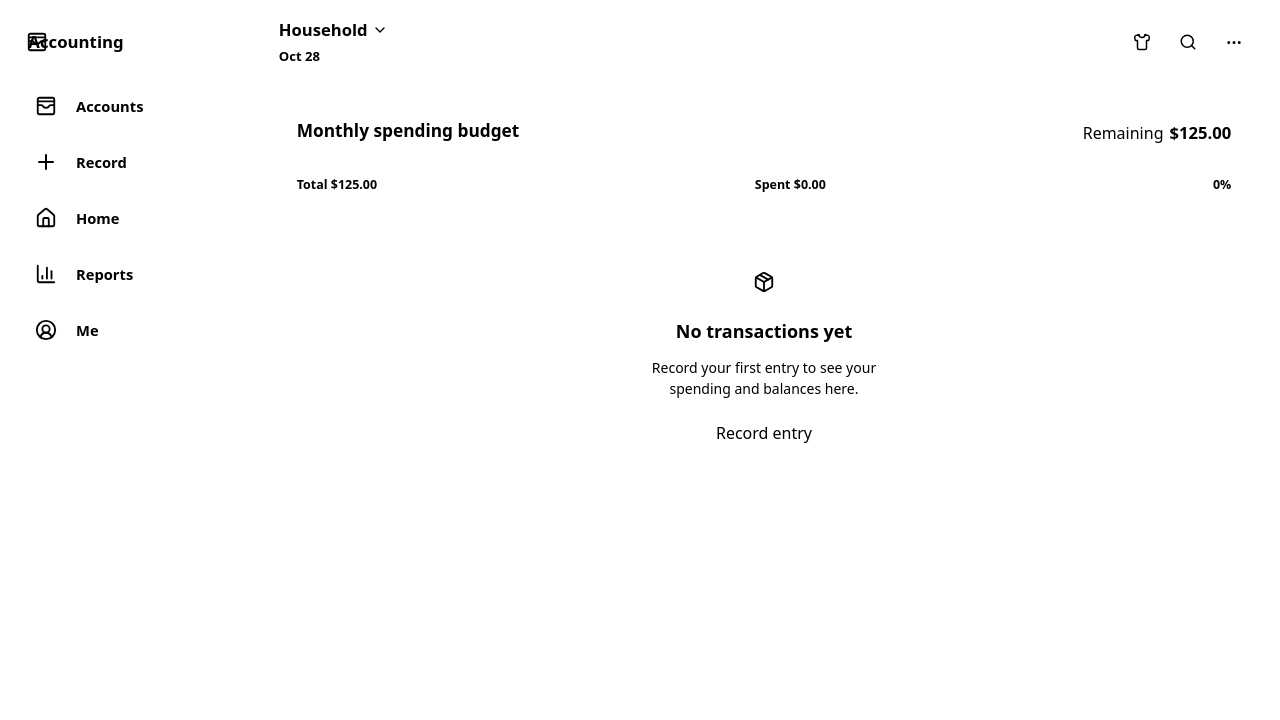
it: App › uses the header book switcher and workspace menu actions
This screenshot has width=1280, height=720.
Check: the element named "Home" is shown, box [279, 103, 1249, 487]
Check: the label named "Switch book" holds "book-1", box [279, 18, 388, 43]
Click the button named "More options".
click(1234, 42)  # box [1219, 27, 1249, 57]
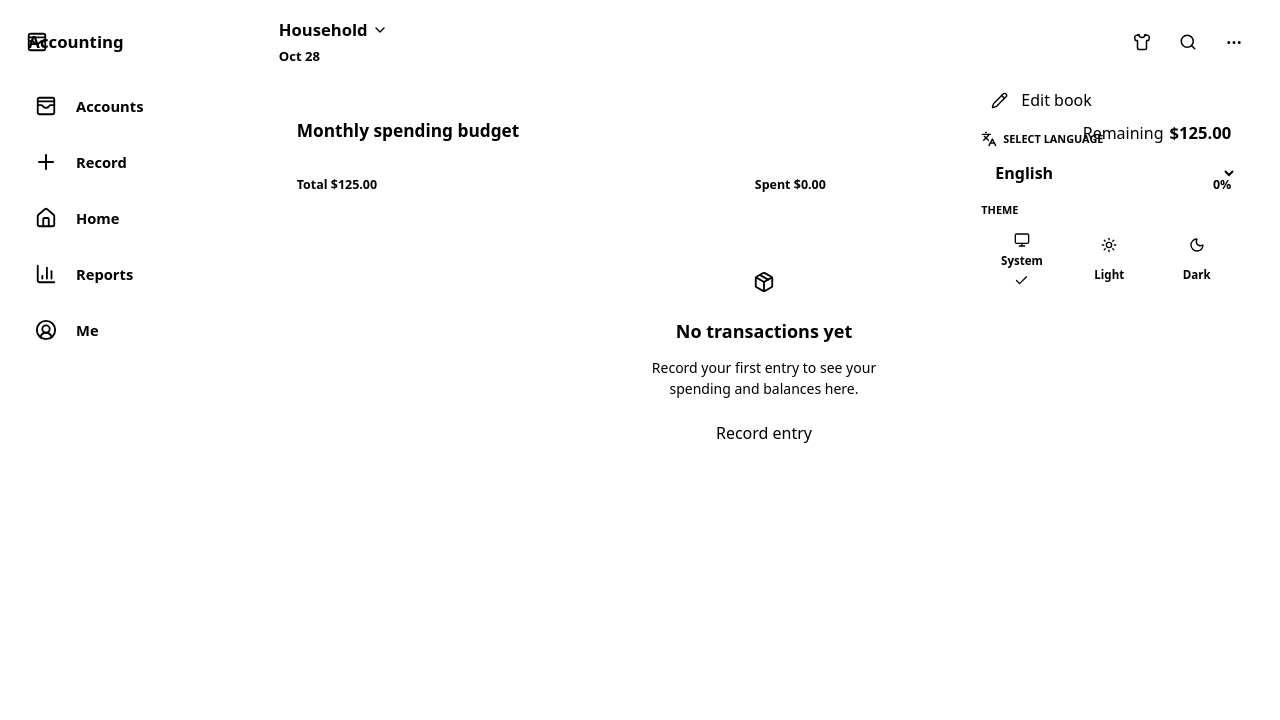
Check: the dropdown labelled "Select language" is shown, box [981, 154, 1237, 192]
Check: the text "Theme" is shown, box [981, 202, 1018, 217]
Click the button "Dark".
click(1197, 260)  # box [1156, 225, 1237, 295]
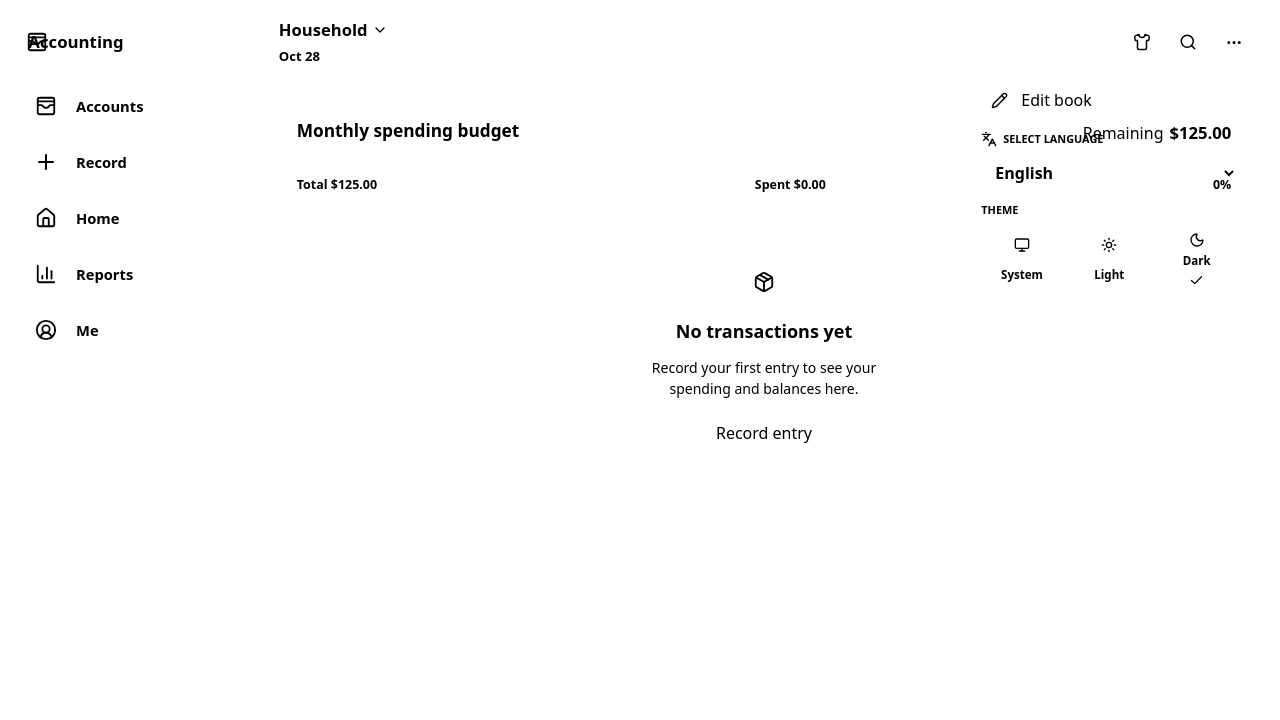
Check: the element that starts with "Household" has class "mobileShellThemeDark"
Click the button "Edit book".
click(1109, 100)  # box [981, 79, 1237, 121]
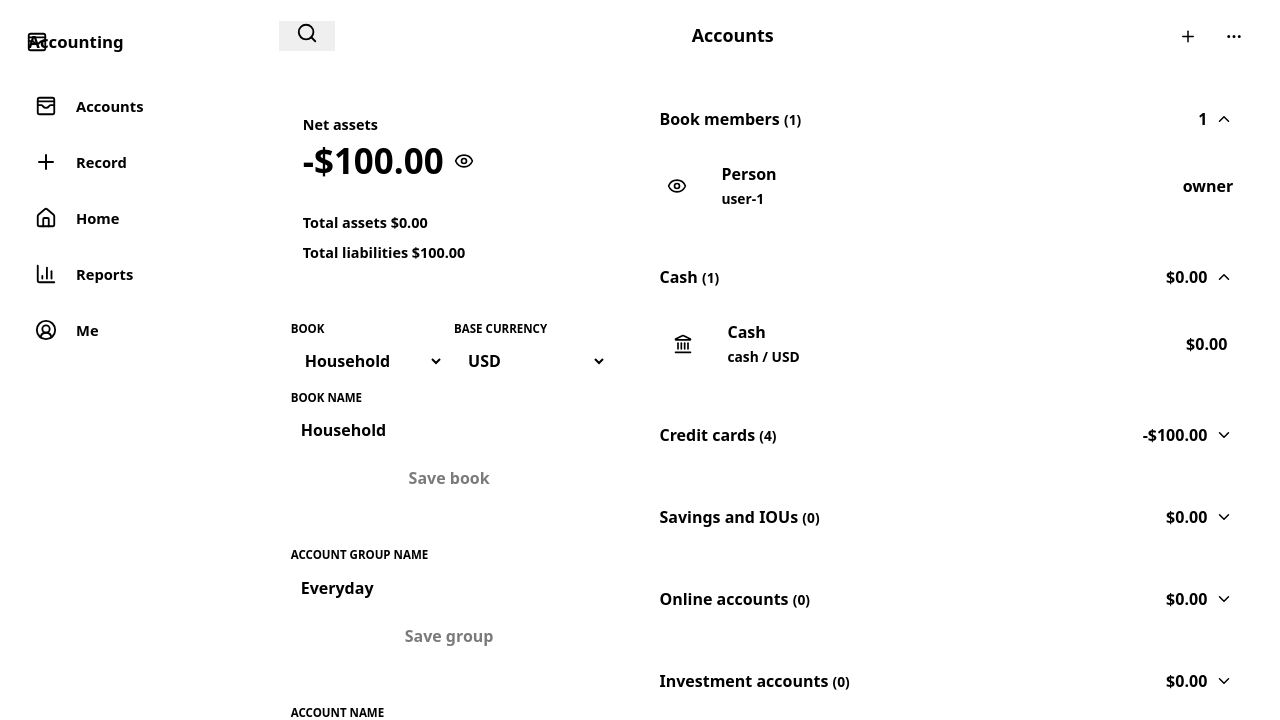
Check: the element named "Accounts" is shown
Check: the heading "Accounts" is shown, box [692, 23, 774, 47]
Check: the field labelled "Book name" holds "Household", box [291, 412, 608, 448]
